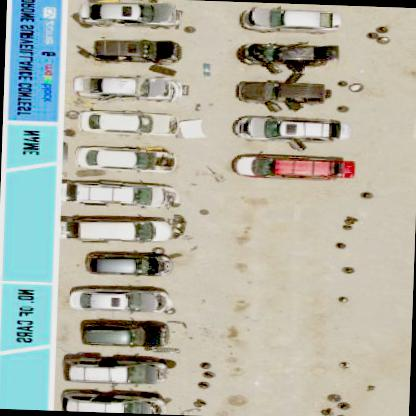car: (237, 38, 339, 76), (63, 353, 175, 385), (230, 152, 352, 181), (72, 73, 186, 104), (232, 115, 352, 144), (64, 181, 178, 208), (78, 0, 181, 29), (62, 216, 172, 243), (60, 387, 170, 414), (74, 110, 180, 138), (240, 6, 340, 34), (70, 286, 172, 313), (75, 146, 176, 172), (236, 78, 330, 105), (81, 322, 175, 348), (84, 251, 174, 278), (91, 37, 183, 63)
